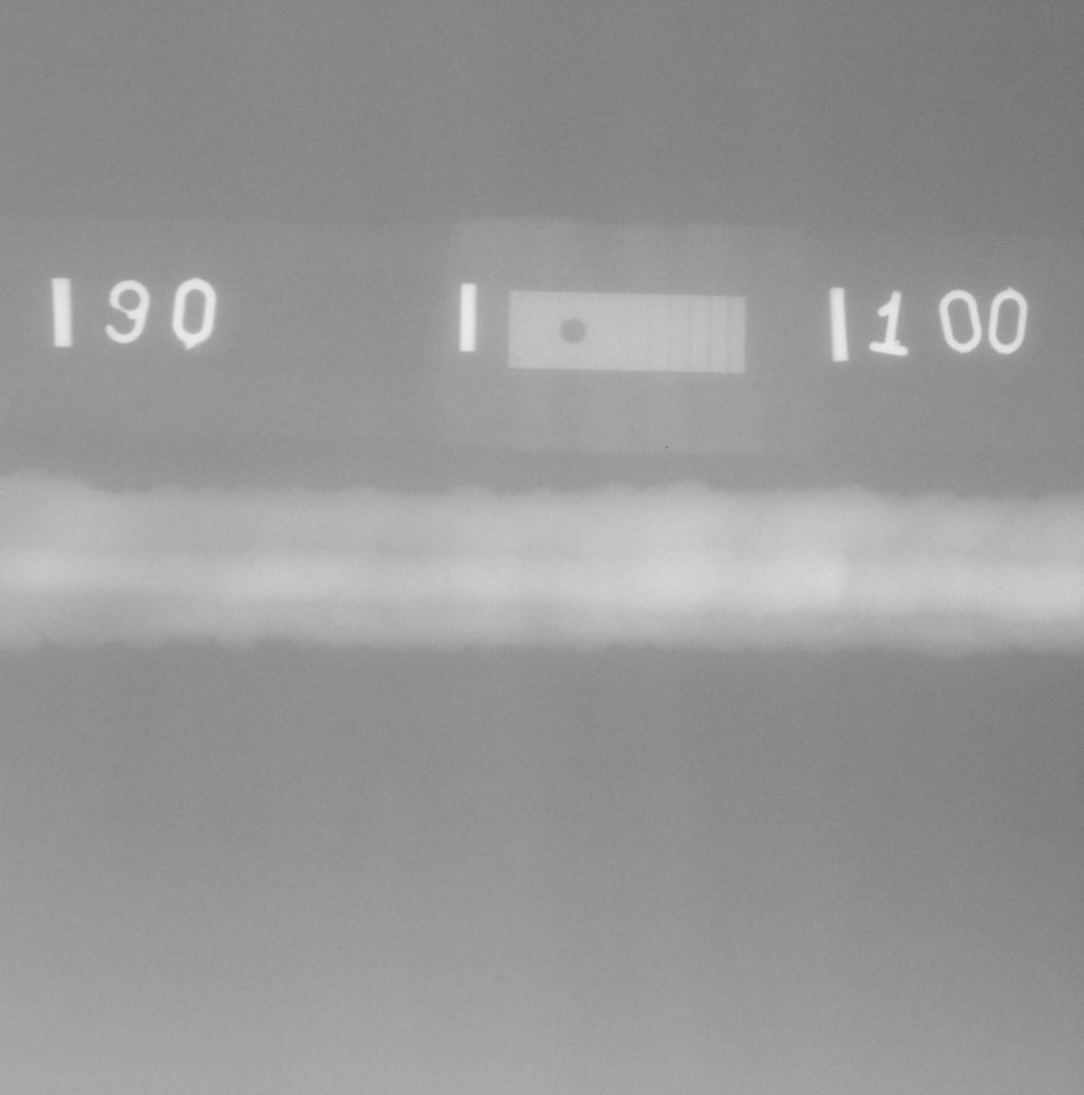Pore/Porosity: (997, 587, 1003, 591)
Reference Standard 1: (509, 290, 745, 373)
